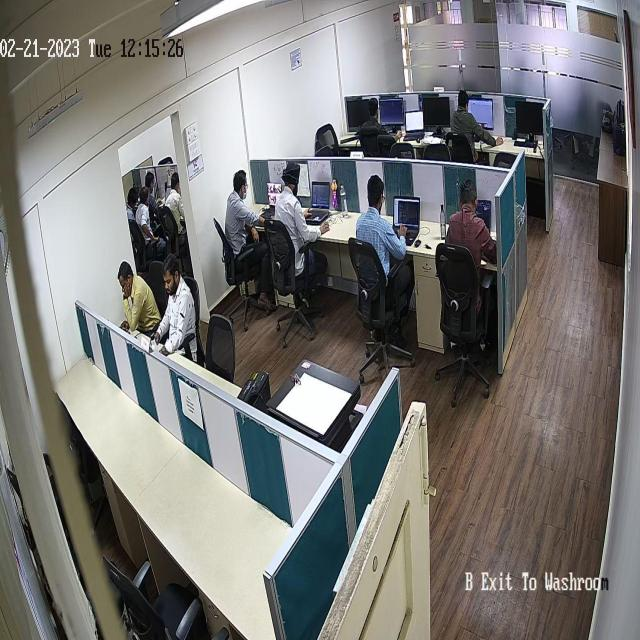chair: (428, 243, 500, 412), (345, 233, 414, 382), (263, 222, 328, 347), (211, 220, 268, 330), (160, 204, 192, 287), (198, 313, 237, 379)
keyboard: (515, 136, 540, 149)
laptop: (388, 190, 422, 250), (304, 178, 332, 228), (258, 176, 281, 224), (402, 111, 426, 142)
monitor: (425, 93, 451, 133), (468, 93, 495, 131), (511, 99, 544, 130), (377, 93, 405, 129), (344, 95, 368, 129)
person: (344, 174, 417, 310), (429, 182, 495, 326), (268, 161, 320, 286), (142, 267, 204, 361), (213, 164, 262, 281), (448, 80, 504, 172), (118, 244, 162, 338), (380, 84, 412, 162), (354, 96, 390, 156), (132, 182, 162, 246), (160, 174, 183, 237), (328, 96, 352, 154), (358, 118, 391, 153), (122, 179, 140, 225)
